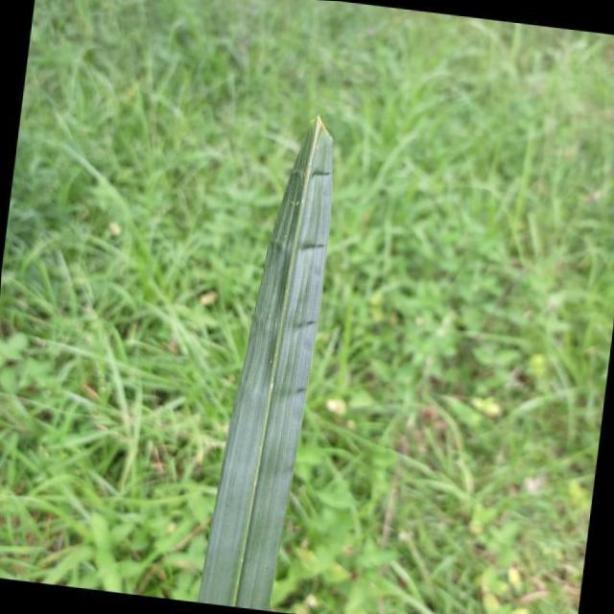Boron: (198, 115, 339, 611)
